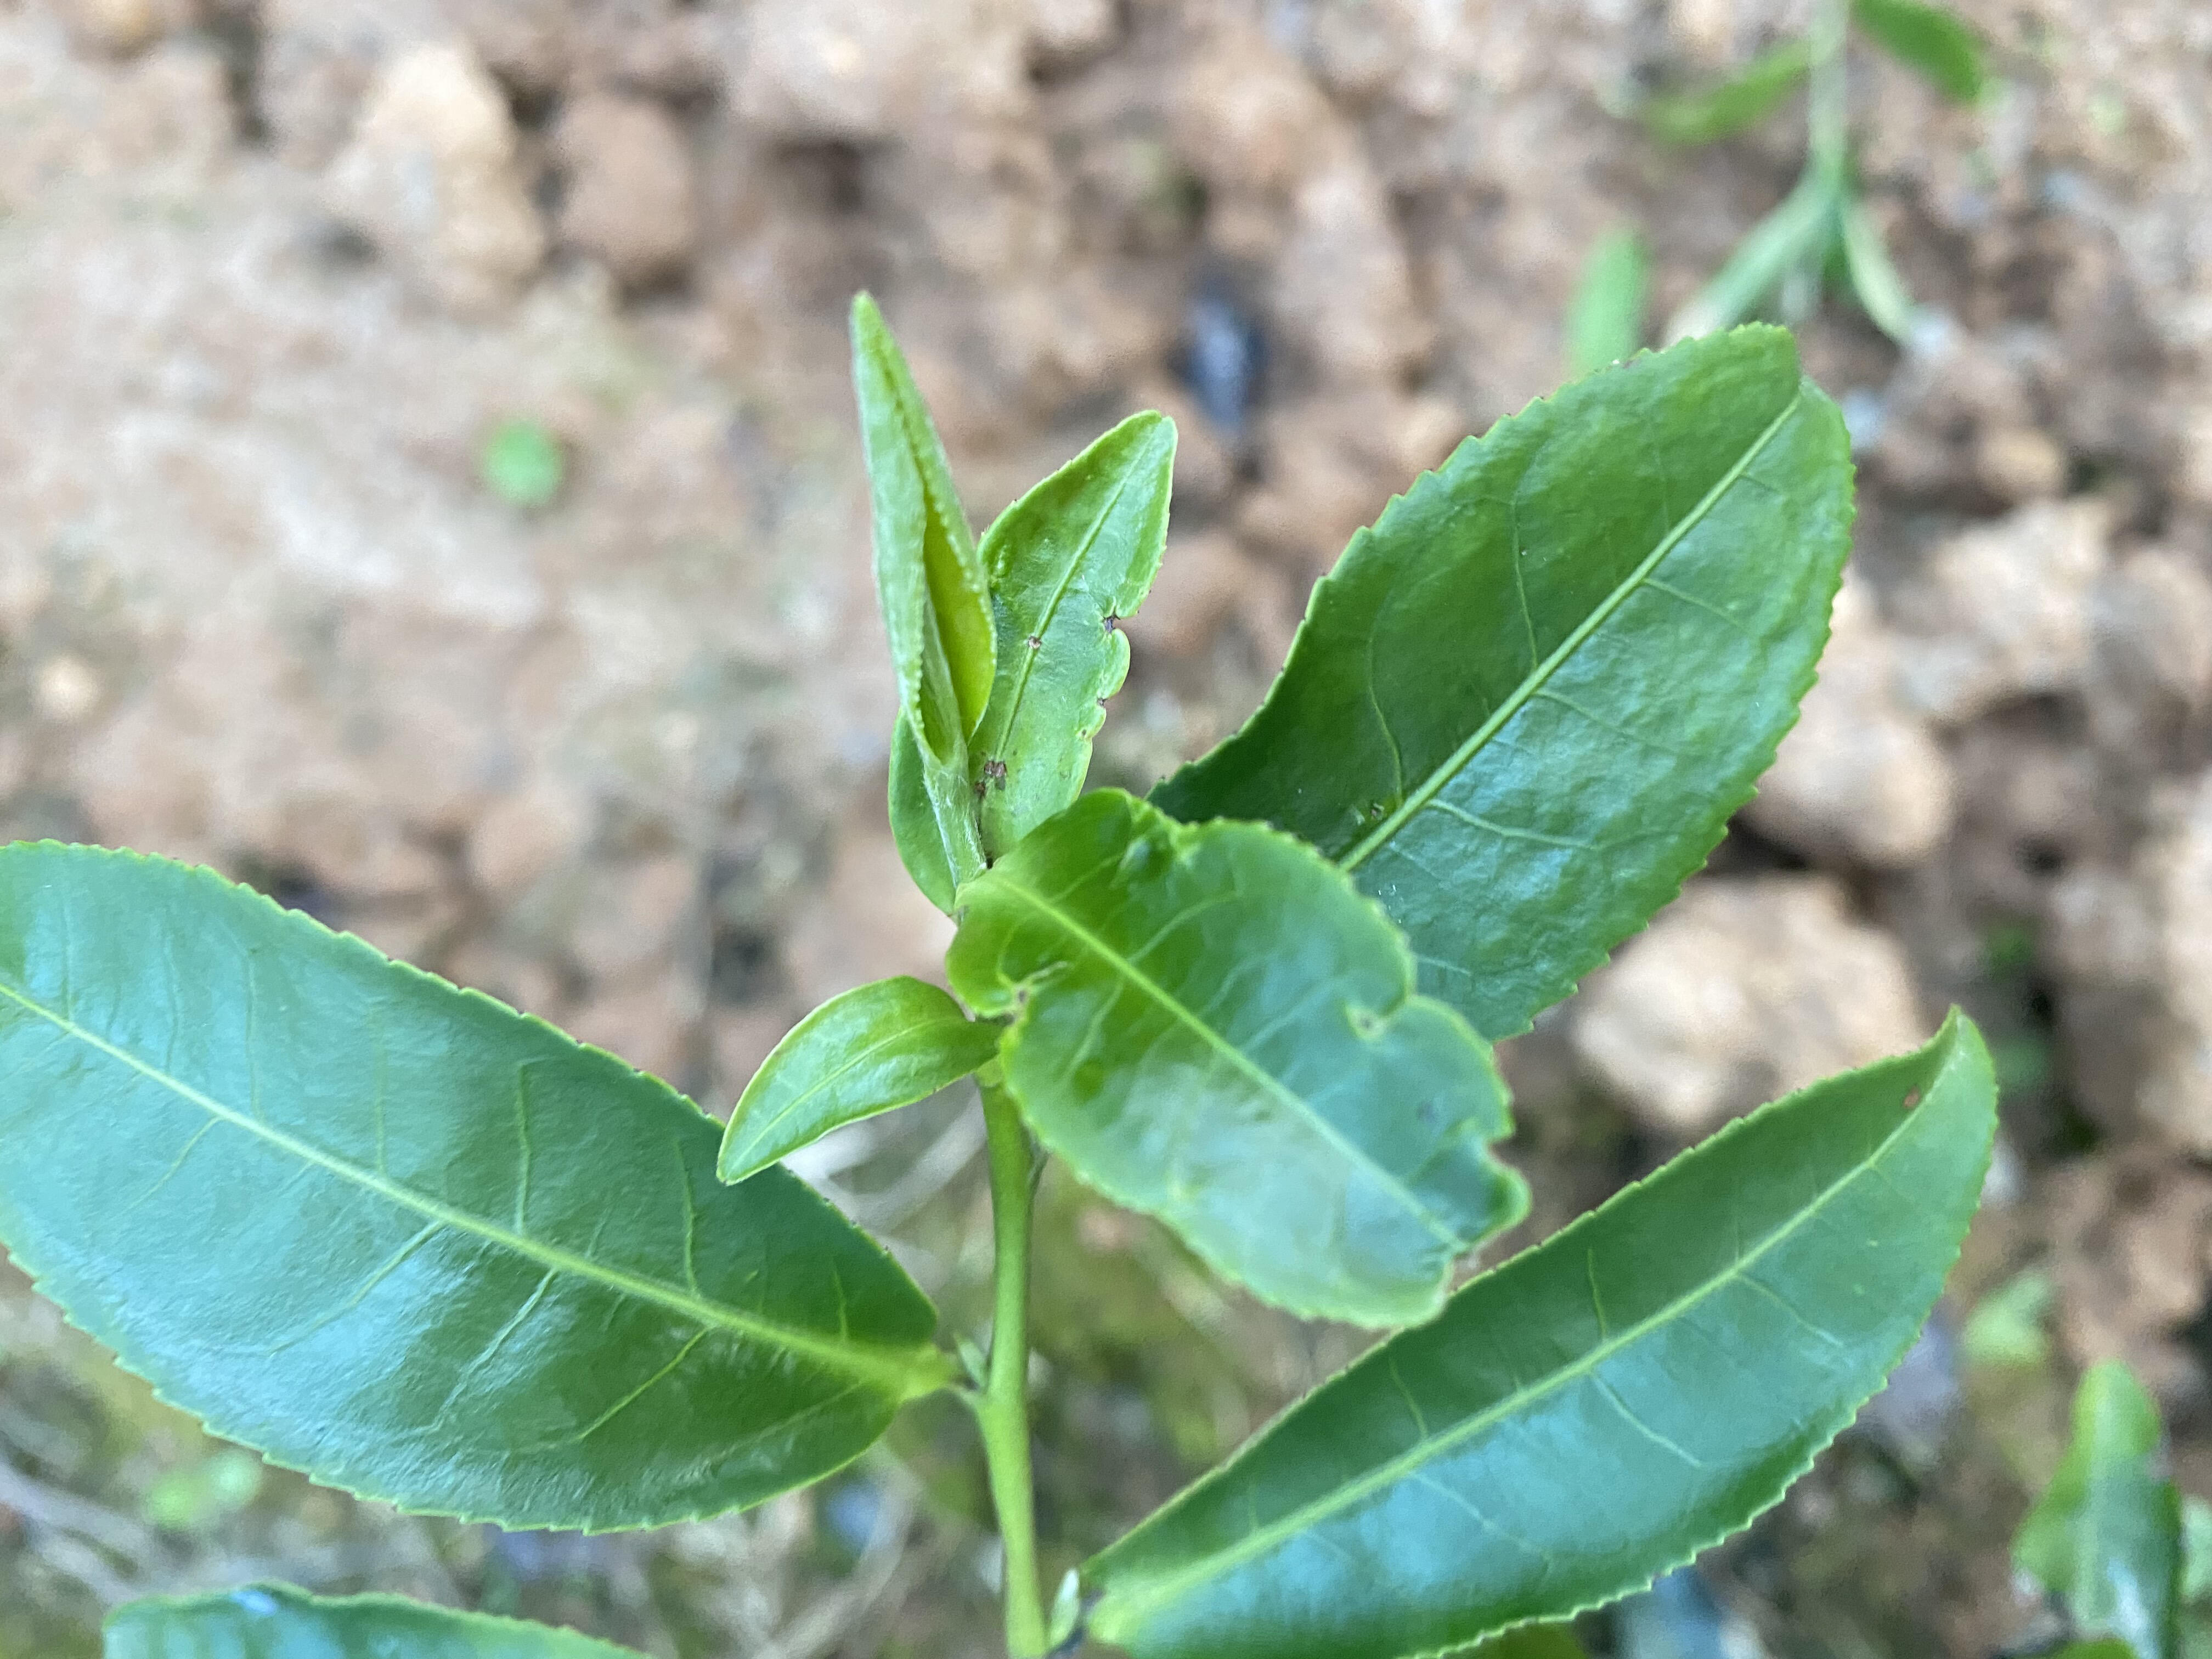chihuo_high: (948, 786, 1534, 1333)
healthy: (3, 842, 942, 1537), (1144, 322, 1862, 1040), (714, 979, 975, 1187)
tanju_low: (1075, 1002, 2003, 1652)
